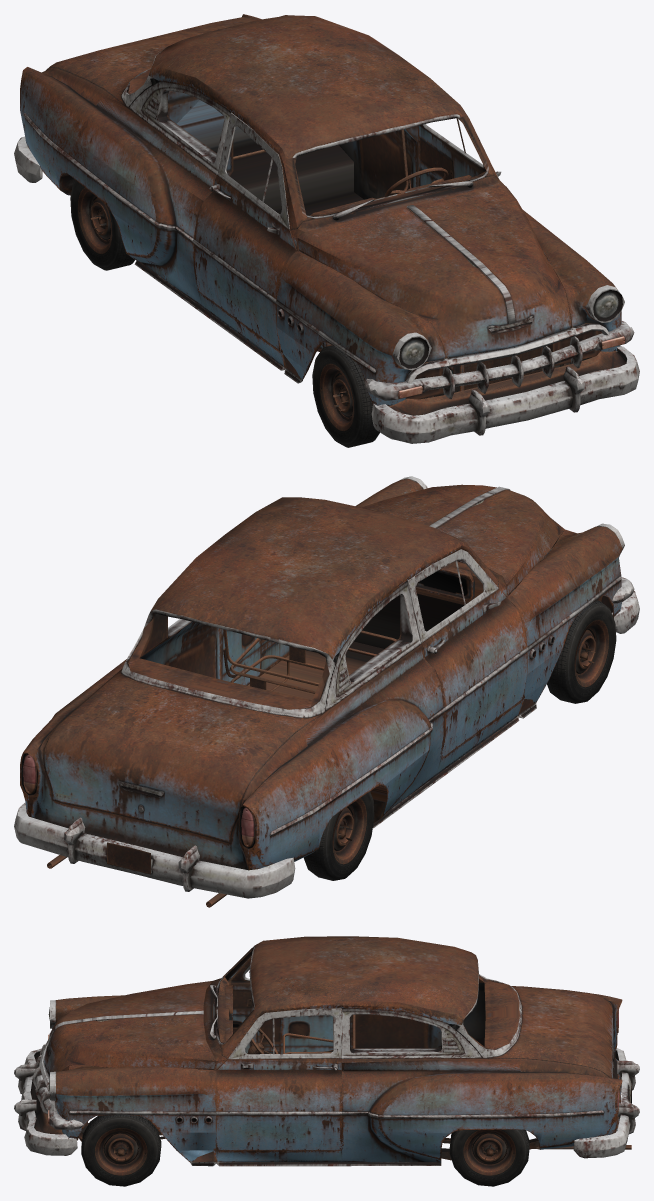
The model's file is OldCar3.fbx.
3 renders of one model, top to bottom at view 1: azimuth 30°, elevation 25°; view 2: azimuth 150°, elevation 25°; view 3: azimuth 270°, elevation 25°, orthographic. The views are drawn at different scales.
Visible parts, largest first — view 1: LOW2_Material #109_0, LOW2_Material #108_0.001, LOW2_Material #108_0.004, LOW2_Material #108_0; view 2: LOW2_Material #109_0, LOW2_Material #108_0.001, LOW2_Material #108_0.004, LOW2_Material #108_0; view 3: LOW2_Material #109_0, LOW2_Material #108_0.002, LOW2_Material #108_0.003, LOW2_Material #108_0.
Boxes of the visible parts, x1,y1,x2,y2 form: LOW2_Material #109_0: [14, 14, 639, 443]; LOW2_Material #108_0.001: [312, 345, 379, 447]; LOW2_Material #108_0.004: [70, 180, 134, 270]; LOW2_Material #108_0: [233, 129, 542, 392]; LOW2_Material #109_0: [14, 476, 639, 907]; LOW2_Material #108_0.001: [547, 600, 616, 703]; LOW2_Material #108_0.004: [303, 791, 374, 880]; LOW2_Material #108_0: [223, 562, 539, 693]; LOW2_Material #109_0: [14, 936, 639, 1166]; LOW2_Material #108_0.002: [81, 1114, 161, 1186]; LOW2_Material #108_0.003: [449, 1129, 529, 1186]; LOW2_Material #108_0: [183, 1014, 355, 1068].
Bounding box in the file's own units: 174 × 141 × 448.
2 materials, 2 textured.
